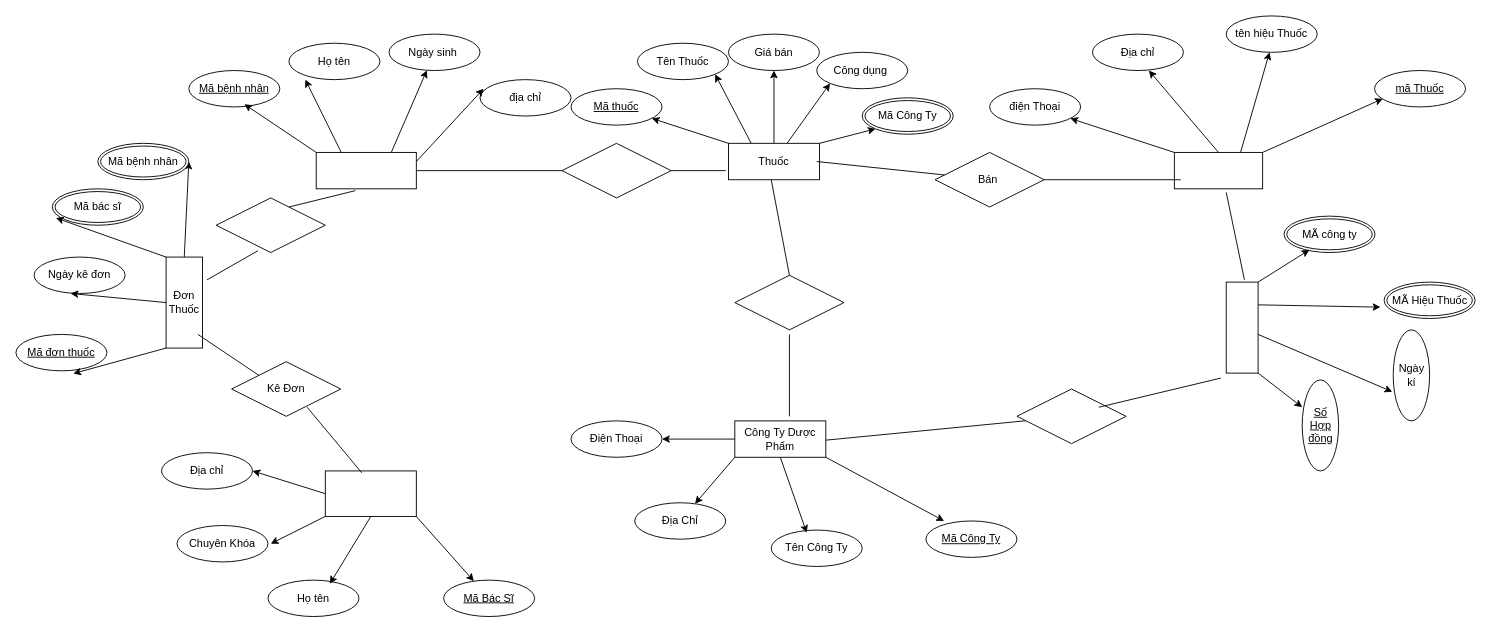
This 1491x632 diagram has some shape labels left out. Each missing label, with the box of its shape:
Bác sĩ: (324, 470, 416, 516)
Bệnh Nhân: (315, 152, 416, 189)
Cung cấp: (1016, 388, 1126, 444)
Hiệu Thuốc: (1173, 152, 1263, 189)
Hợp Đồng: (1225, 281, 1258, 373)
Mua Thuốc: (561, 142, 671, 198)
Nhận đơn thuốc: (215, 197, 325, 253)
Sản xuất: (734, 274, 844, 330)
